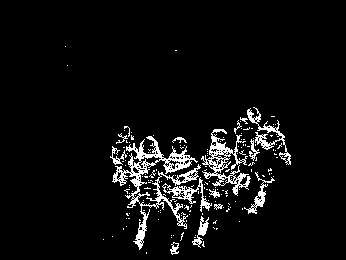person: (254, 113, 294, 216), (199, 127, 230, 247), (164, 138, 195, 250), (134, 135, 165, 245), (111, 124, 138, 211), (234, 105, 260, 195)
